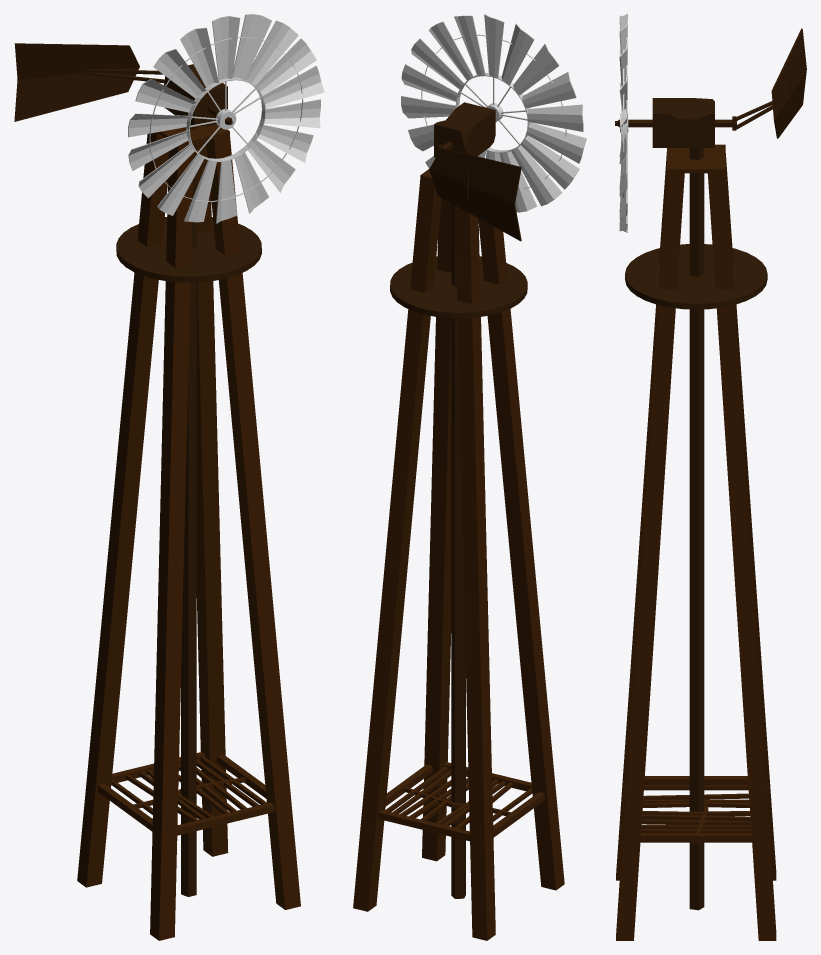
Rendered from windmill.fbx.
The picture shows the model from 3 angles, left to right: view 1: azimuth 30°, elevation 25°; view 2: azimuth 150°, elevation 25°; view 3: azimuth 270°, elevation 25°; orthographic projection. The views are drawn at different scales.
Visible parts, largest first — view 1: wmill_base, wmill_wheel, wmill_base2; view 2: wmill_base, wmill_base2, wmill_wheel; view 3: wmill_base, wmill_base2, wmill_wheel.
Part boxes in pixels (x1,y1,x2,y2): wmill_base: [77, 124, 300, 940]; wmill_wheel: [128, 14, 324, 223]; wmill_base2: [14, 43, 261, 896]; wmill_base: [353, 168, 564, 940]; wmill_base2: [390, 102, 527, 898]; wmill_wheel: [401, 14, 586, 212]; wmill_base: [616, 144, 776, 940]; wmill_base2: [615, 28, 806, 910]; wmill_wheel: [619, 14, 628, 232].
Bounding box in the file's own units: 574 × 2284 × 450.
